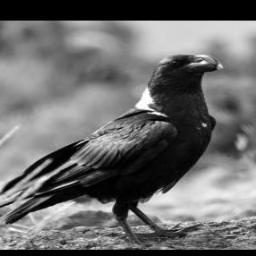Crow: (0, 49, 231, 247)
